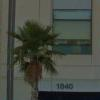Tree: (12, 17, 55, 83)
